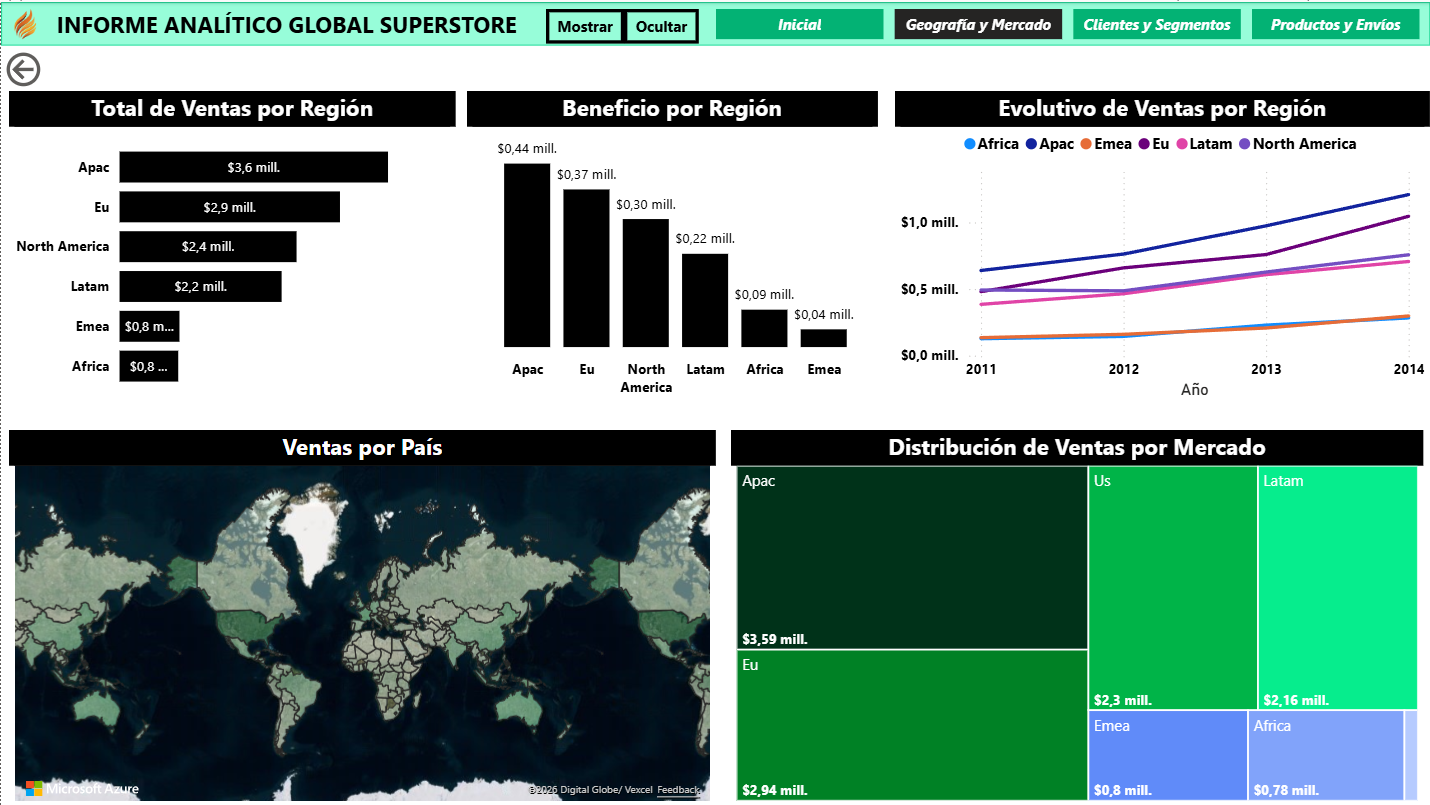

The page's visual inventory and layout, read from the dashboard file:
{"tool":"powerbi","page":{"name":"Geografía y Mercado","canvas":[1280,720],"ordinal":1},"visuals":[{"type":"group","id":"g1","title":"Grupo 1","box":[0,0,1280,40.2],"z":0},{"type":"shape","box":[0,0,1280,39.2],"z":0,"group":"g1"},{"type":"image","box":[0,0,42.3,40.2],"z":1000,"group":"g1"},{"type":"azureMap","title":"Ventas por País","fields":{"Category":["Dim_Geography.Country"]},"box":[7.4,383.4,633,336.9],"z":1000},{"type":"pageNavigator","box":[640,6.2,632.8,27.8],"z":2000,"group":"g1"},{"type":"actionButton","box":[0,40.2,100,40.2],"z":2000},{"type":"treemap","title":"Distribución de Ventas por Mercado","fields":{"Group":["Dim_Geography.Market"],"Values":["Metricas.KPI_Total_Ventas"]},"box":[653.5,383.4,620,336.9],"z":3000},{"type":"clusteredBarChart","title":"Total de Ventas por Región","fields":{"Y":["Metricas.KPI_Total_Ventas"],"Category":["Dim_Geography.Market_Zone"]},"box":[7.4,79.8,400.1,280.3],"z":4000},{"type":"columnChart","title":"Beneficio por Región","fields":{"Category":["Dim_Geography.Market_Zone"],"Y":["Metricas.KPI_Total_Profit"]},"box":[417.7,79.8,367.6,280.3],"z":5000},{"type":"lineChart","title":"Evolutivo de Ventas por Región","fields":{"Category":["Dim_Date.Jerarquía de fecha.Año"],"Y2":["Metricas.KPI_Total_Ventas"],"Series":["Dim_Geography.Market_Zone"]},"box":[801,79.8,479,280.3],"z":6000},{"type":"group","id":"g2","title":"Filtros Activar","box":[488,6,304,337],"z":7001},{"type":"actionButton","title":"Mostrar","box":[488,6,70,31],"z":9000,"group":"g2"},{"type":"actionButton","title":"Ocultar","box":[558,6,67,31],"z":10000,"group":"g2"}]}

Visuals, with their boxes in screenshot pixels (x1, y1, x2, y2), scaled from the page's 1280x720 canvas onto the 1430x805 screenshot:
"Grupo 1" group: <box>0,0,1429,45</box>
shape: <box>0,0,1429,44</box>
image: <box>0,0,47,45</box>
"Ventas por País" azureMap: <box>8,429,715,804</box>
pageNavigator: <box>715,7,1422,38</box>
actionButton: <box>0,45,112,90</box>
"Distribución de Ventas por Mercado" treemap: <box>730,429,1423,804</box>
"Total de Ventas por Región" clusteredBarChart: <box>8,89,455,403</box>
"Beneficio por Región" columnChart: <box>467,89,877,403</box>
"Evolutivo de Ventas por Región" lineChart: <box>895,89,1429,403</box>
"Filtros Activar" group: <box>545,7,885,383</box>
"Mostrar" actionButton: <box>545,7,623,41</box>
"Ocultar" actionButton: <box>623,7,698,41</box>
